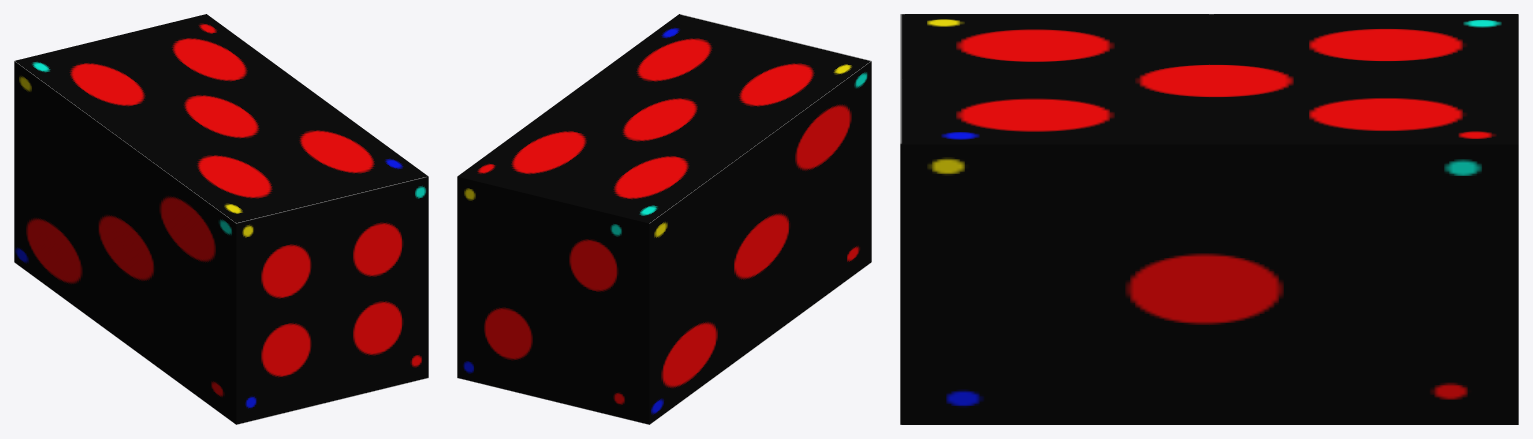
The model's file is Player 1.fbx.
3 renders of one model, left to right at view 1: azimuth 30°, elevation 25°; view 2: azimuth 150°, elevation 25°; view 3: azimuth 270°, elevation 25°, orthographic. The views are drawn at different scales.
Parts seen in each view (by area): view 1: Cube; view 2: Cube; view 3: Cube.
Part boxes in pixels (x1,y1,x2,y2): Cube: [14, 14, 428, 424]; Cube: [457, 14, 871, 424]; Cube: [900, 14, 1518, 424].
Size of the model in its own units: 100 by 100 by 200.
